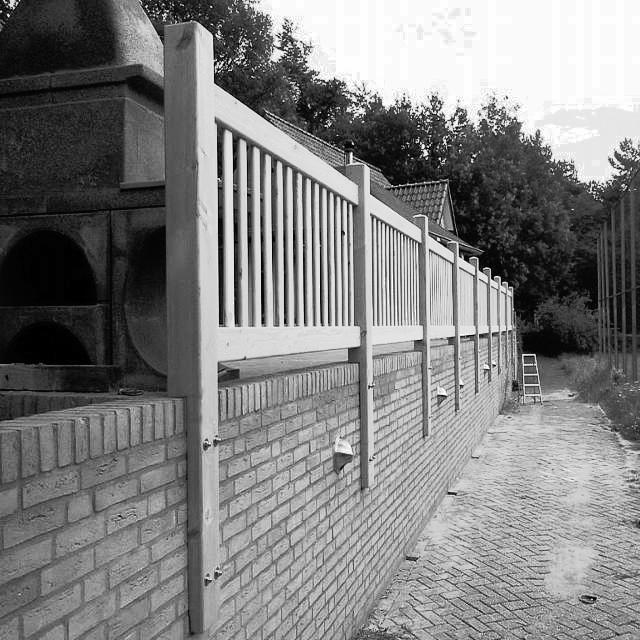fences: (197, 131, 400, 339), (421, 232, 524, 330)
